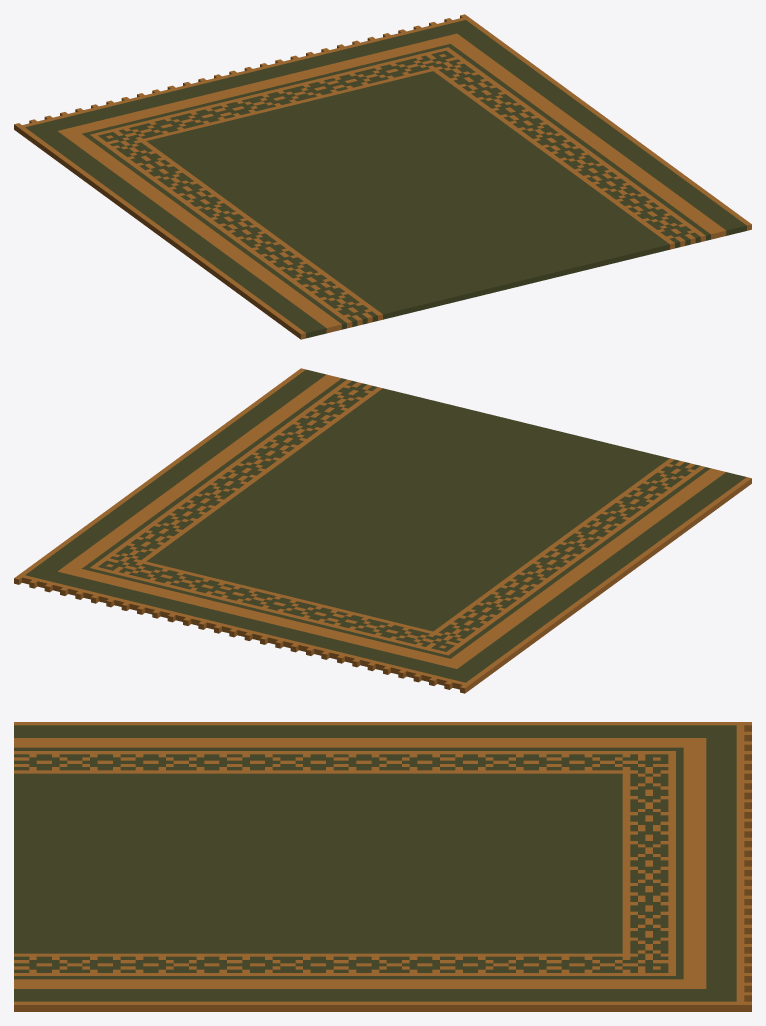
File: tapis_hall.obj
3 renders of one model, top to bottom at view 1: azimuth 30°, elevation 25°; view 2: azimuth 150°, elevation 25°; view 3: azimuth 270°, elevation 25°, orthographic. The views are drawn at different scales.
Bounding box in the file's own units: 88 × 1 × 97.
1 material, 1 textured.
